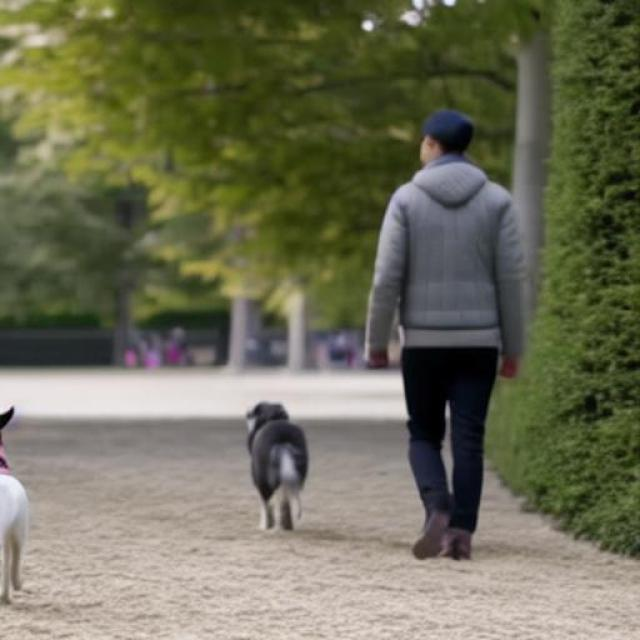Unleashed_Dog: (245, 345, 450, 533)
